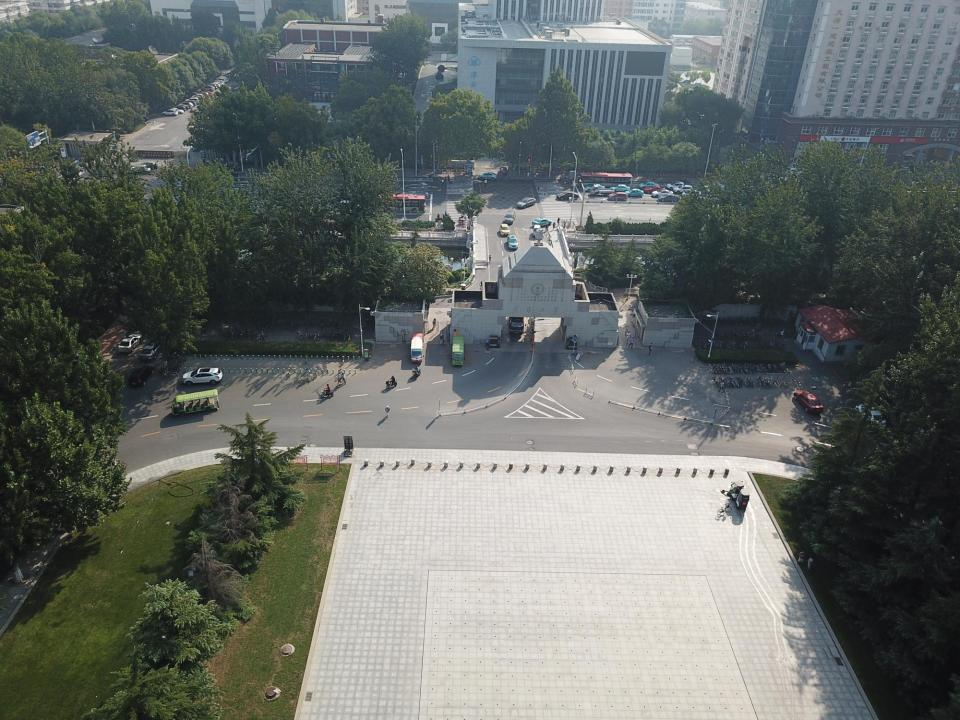bus: (371, 192, 428, 215), (171, 390, 219, 416), (579, 172, 633, 192), (450, 334, 464, 366), (410, 333, 424, 363)
car: (855, 402, 887, 431), (182, 368, 223, 386), (794, 390, 824, 413), (128, 365, 154, 387), (138, 340, 164, 360), (118, 334, 142, 352), (556, 190, 579, 200), (516, 197, 536, 208), (658, 193, 680, 203), (584, 183, 606, 192), (652, 188, 673, 197), (609, 183, 630, 192), (504, 210, 516, 225), (697, 193, 719, 201), (644, 186, 666, 194), (138, 161, 157, 170), (673, 185, 692, 194), (639, 181, 658, 190), (506, 234, 518, 248), (666, 181, 684, 190), (130, 165, 150, 173), (531, 217, 551, 225), (624, 188, 644, 196), (785, 168, 804, 176), (682, 190, 701, 198), (704, 183, 725, 190), (609, 192, 627, 200), (500, 224, 510, 237), (479, 172, 497, 179), (707, 187, 724, 193)
truck: (506, 296, 526, 334), (590, 183, 615, 196)
van: (532, 224, 541, 237)
